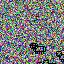sheep: (55, 49, 64, 62)
